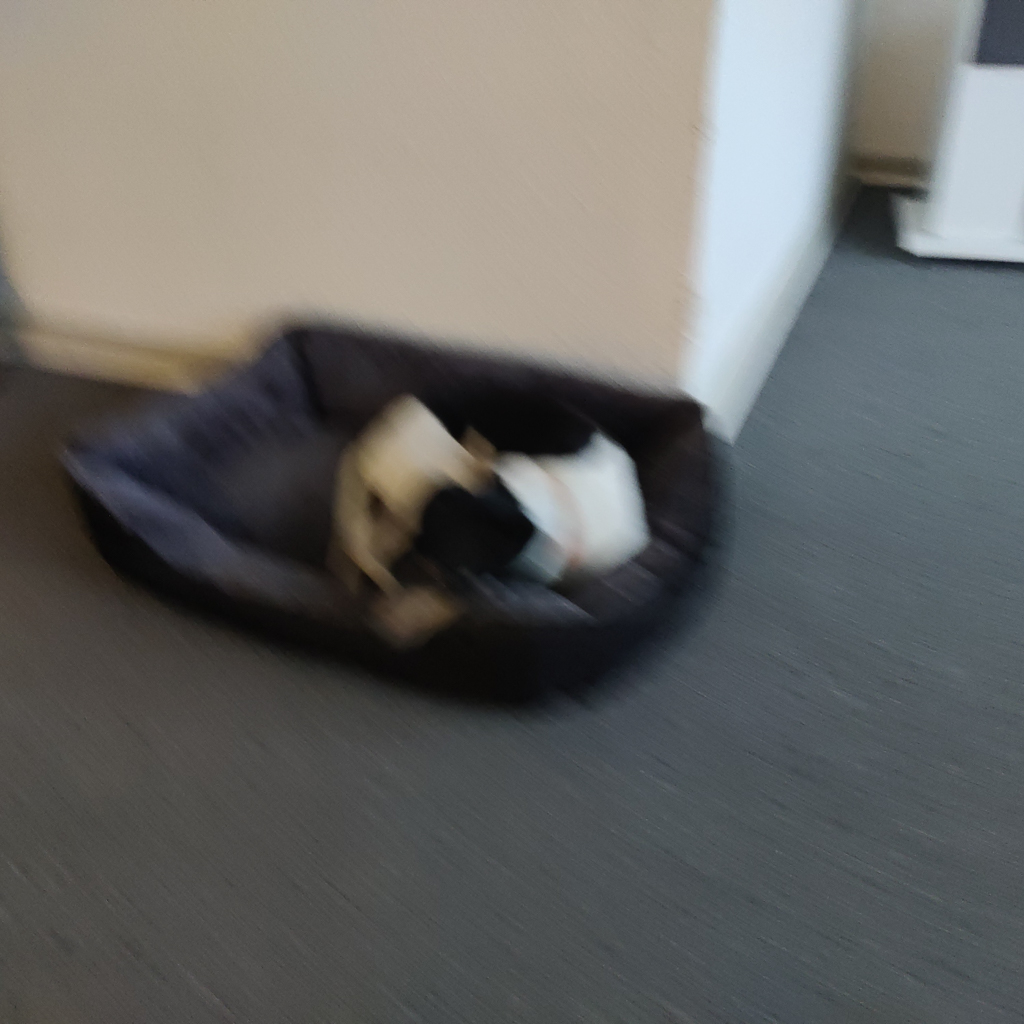Dog: (292, 355, 672, 669)
